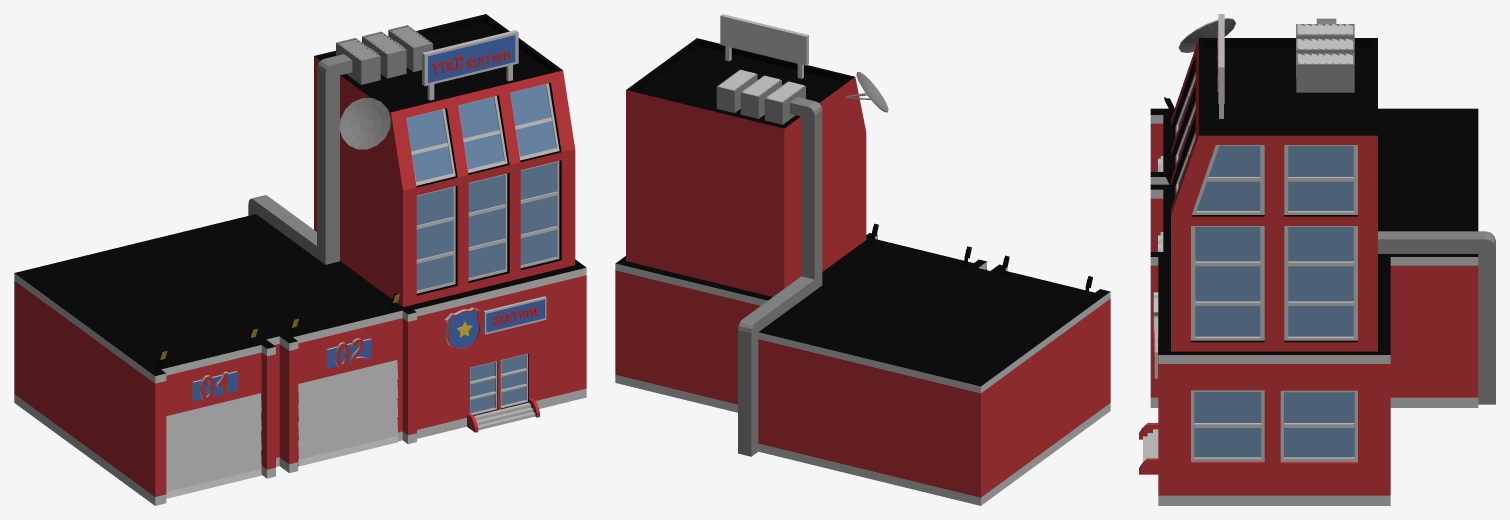
Rendered from firestation1.glb.
3 renders of one model, left to right at view 1: azimuth 30°, elevation 25°; view 2: azimuth 150°, elevation 25°; view 3: azimuth 270°, elevation 25°, orthographic. The views are drawn at different scales.
Parts seen in each view (by area): view 1: Fire station; view 2: Fire station; view 3: Fire station.
Part boxes in pixels (x1,y1,x2,y2): Fire station: (14,14,586,505); Fire station: (615,14,1110,505); Fire station: (1139,14,1495,505).
Bounding box in the file's own units: 14.55 × 11.41 × 8.9.
